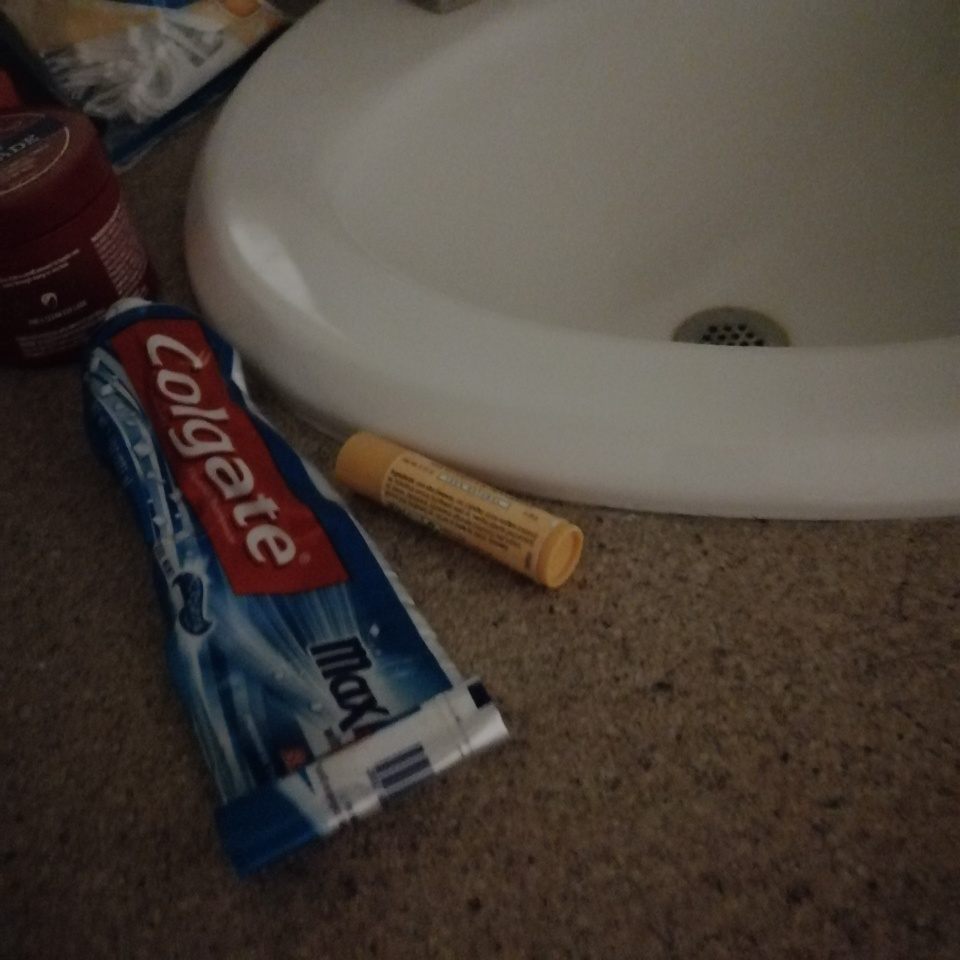chapstick: (335, 432, 584, 589)
